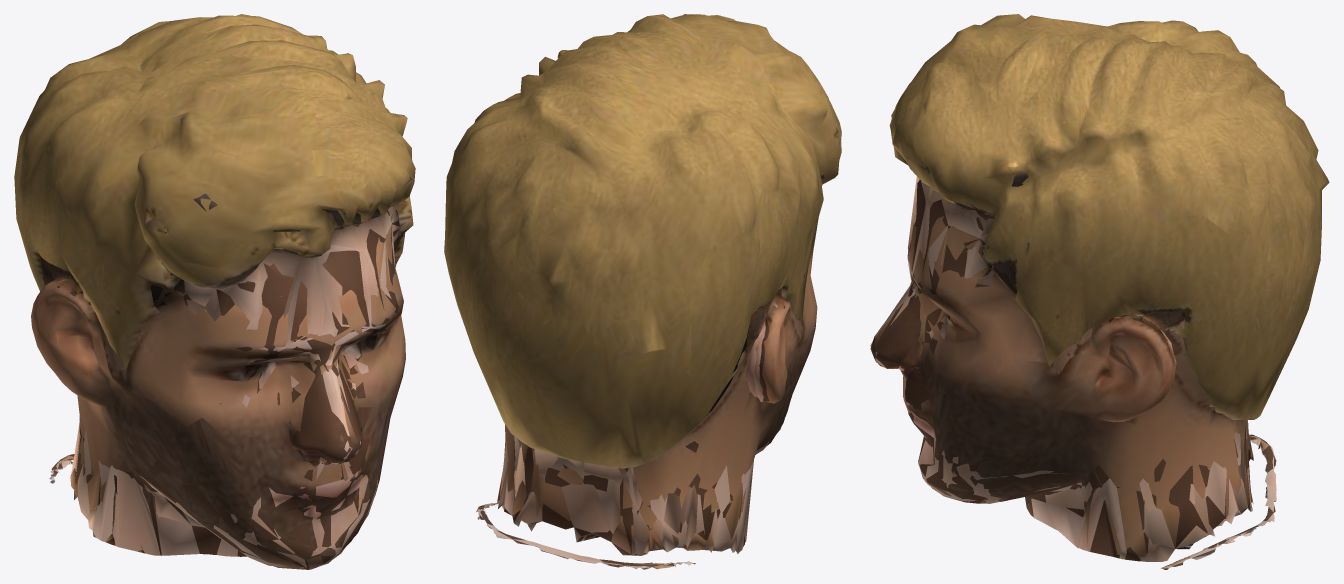
The model's file is tetes.glb.
3 views of the same model, side by side, from view 1: azimuth 30°, elevation 25°; view 2: azimuth 150°, elevation 25°; view 3: azimuth 270°, elevation 25° (orthographic). The views are drawn at different scales.
Parts seen in each view (by area): view 1: Tete_C, Tete_D, Tete_B, Tete_A; view 2: Tete_C, Tete_D, Tete_A, Tete_B; view 3: Tete_C, Tete_D, Tete_B, Tete_A.
Boxes of the visible parts, x1=… form: Tete_C: x1=14, y1=14, x2=415, y2=567; Tete_D: x1=31, y1=211, x2=405, y2=569; Tete_B: x1=48, y1=210, x2=400, y2=569; Tete_A: x1=49, y1=193, x2=401, y2=569; Tete_C: x1=444, y1=14, x2=841, y2=562; Tete_D: x1=483, y1=249, x2=817, y2=568; Tete_A: x1=476, y1=76, x2=828, y2=568; Tete_B: x1=476, y1=297, x2=789, y2=569; Tete_C: x1=870, y1=14, x2=1329, y2=561; Tete_D: x1=870, y1=207, x2=1268, y2=567; Tete_B: x1=871, y1=180, x2=1276, y2=569; Tete_A: x1=870, y1=173, x2=1276, y2=569.
Bounding box in the file's own units: 0.1679 × 0.2348 × 0.2071.
4 materials, 4 textured.
